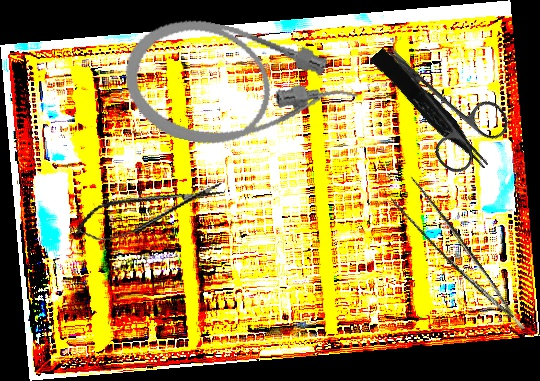Cannula: (112, 6, 367, 174)
Iris Scissors: (360, 18, 516, 180)
Micro Scissor: (70, 173, 230, 248)
Tissue Forceps: (384, 169, 526, 349), (369, 43, 492, 178)
